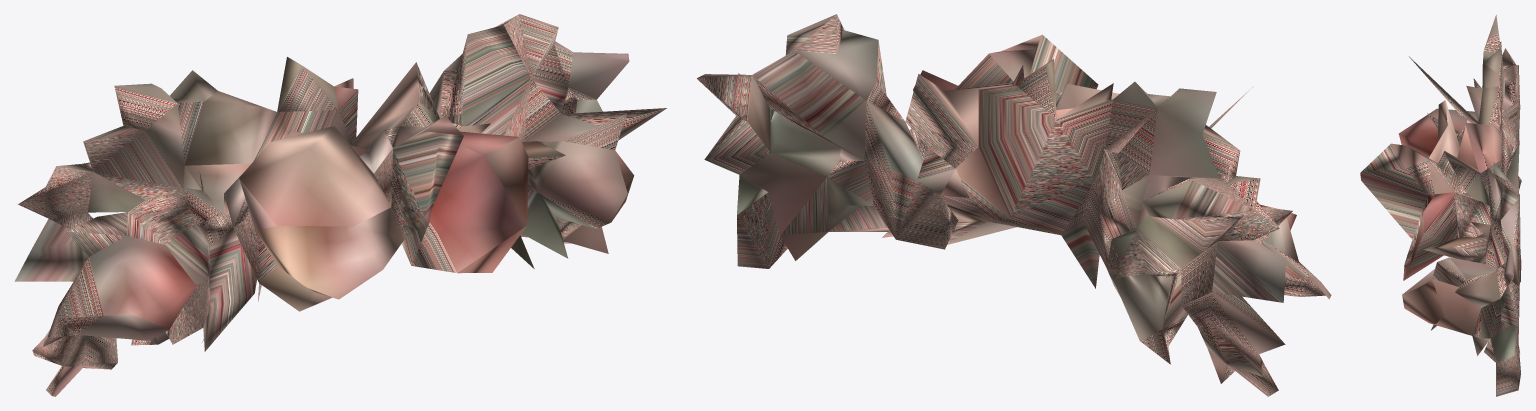
3 views of the same model, side by side, from view 1: azimuth 30°, elevation 25°; view 2: azimuth 150°, elevation 25°; view 3: azimuth 270°, elevation 25° (orthographic). The views are drawn at different scales.
Parts seen in each view (by area): view 1: Rose-Spray-10-11; view 2: Rose-Spray-10-11; view 3: Rose-Spray-10-11.
Part boxes in pixels (x1=…): Rose-Spray-10-11: x1=14, y1=14, x2=666, y2=396; Rose-Spray-10-11: x1=697, y1=14, x2=1331, y2=396; Rose-Spray-10-11: x1=1360, y1=15, x2=1521, y2=396.
Size of the model in its own units: 0.3092 by 0.1417 by 0.097.
Materials: 1 (1 with a texture image).
